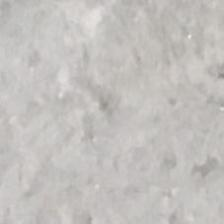Non_Crack: (20, 20, 212, 205)
